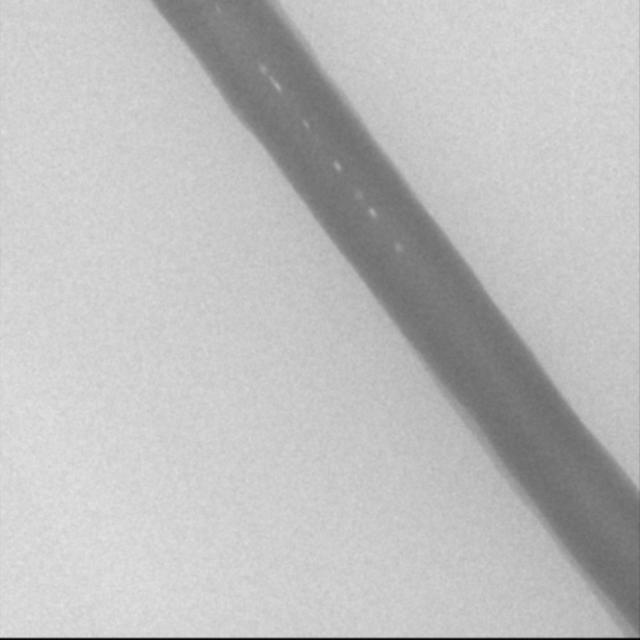air hole: (393, 241, 404, 256), (301, 117, 311, 131), (367, 206, 377, 219), (332, 160, 342, 173), (273, 81, 283, 94), (259, 64, 268, 77)
